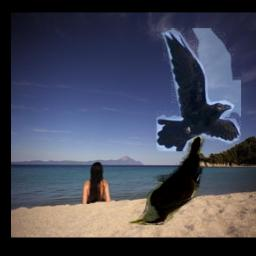Crow: (157, 28, 242, 151)
Cuckoo: (129, 135, 206, 226)
